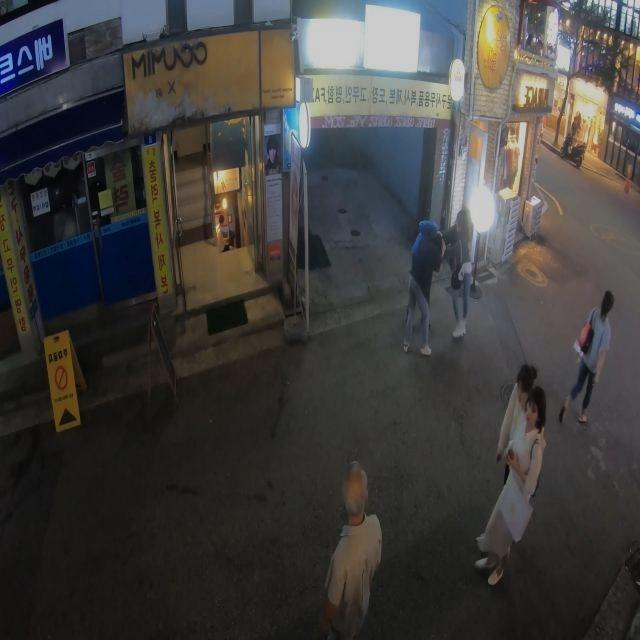fight: (404, 206, 481, 354)
non-fight: (472, 381, 548, 590), (320, 458, 384, 635), (560, 287, 615, 425)
